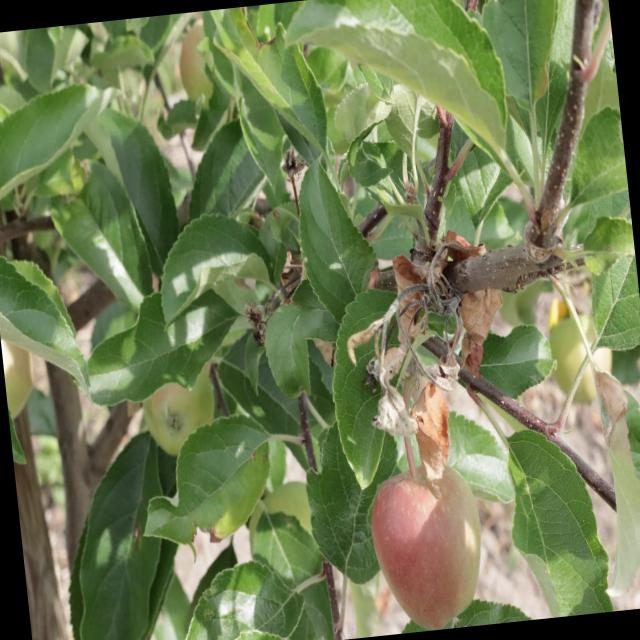-FireBlight-: (339, 232, 511, 505)
